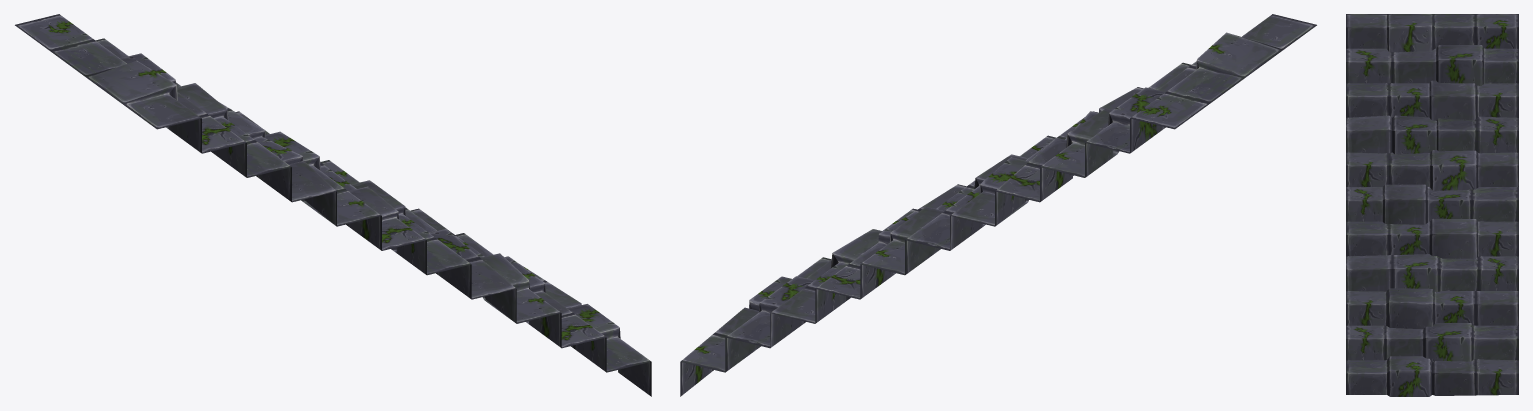
The model's file is MOD_Stairs_01_E_straight_2_half.fbx.
The picture shows the model from 3 angles, left to right: view 1: azimuth 30°, elevation 25°; view 2: azimuth 150°, elevation 25°; view 3: azimuth 270°, elevation 25°; orthographic projection. The views are drawn at different scales.
Visible parts, largest first — view 1: MOD_Stairs_01_E_straight_2_half; view 2: MOD_Stairs_01_E_straight_2_half; view 3: MOD_Stairs_01_E_straight_2_half.
Part boxes in pixels (x1,y1,x2,y2): MOD_Stairs_01_E_straight_2_half: (15, 14, 651, 396); MOD_Stairs_01_E_straight_2_half: (680, 14, 1316, 396); MOD_Stairs_01_E_straight_2_half: (1346, 14, 1518, 396).
Size of what is drawn, in the model's own units: 406 by 304 by 200.
